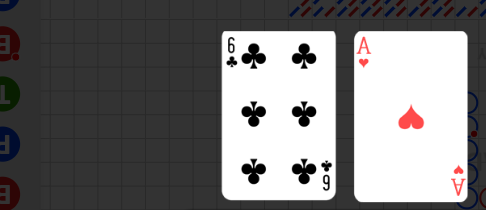6C: (225, 35, 239, 70)
AH: (357, 35, 373, 70)
